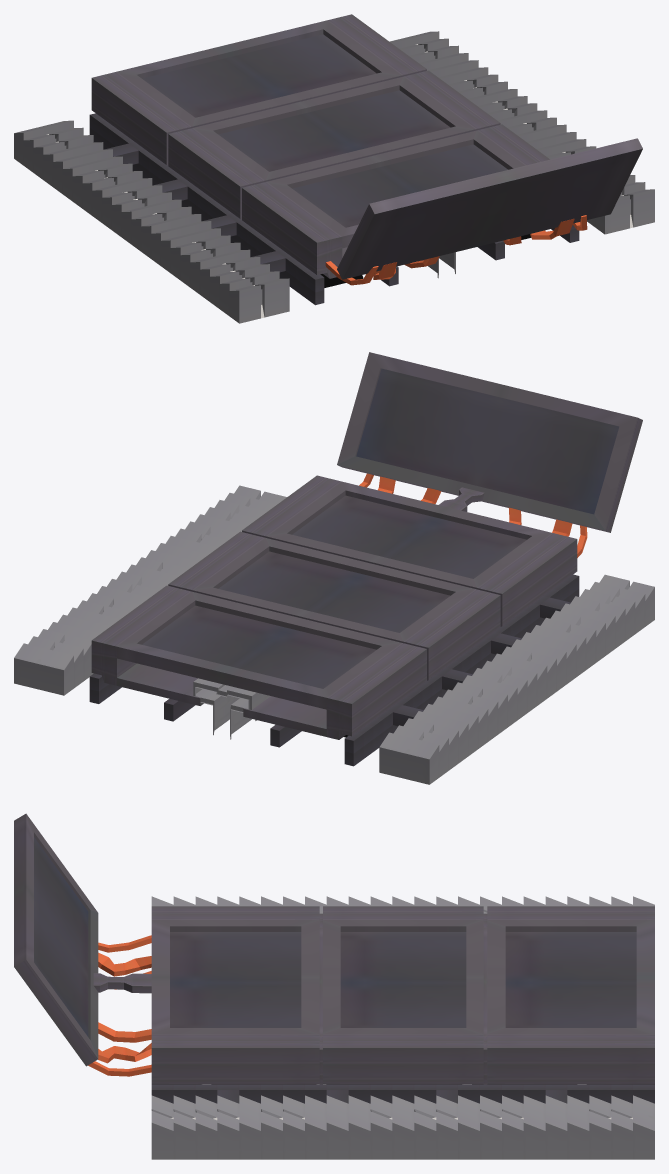
Rendered from TrailsMenu.fbx.
The picture shows the model from 3 angles, top to bottom: view 1: azimuth 30°, elevation 25°; view 2: azimuth 150°, elevation 25°; view 3: azimuth 270°, elevation 25°; orthographic projection. The views are drawn at different scales.
Visible parts, largest first — view 1: Cart, Trail; view 2: Cart, Trail; view 3: Cart, Trail.
Part boxes in pixels (box(x1,y1,x2,y2)): Cart: box(91, 14, 642, 285); Trail: box(14, 31, 654, 323); Cart: box(91, 352, 642, 739); Trail: box(14, 485, 654, 784); Cart: box(14, 813, 654, 1084); Trail: box(151, 896, 654, 1159).
Size of what is drawn, in the model's own units: 10.02 by 3.38 by 12.
